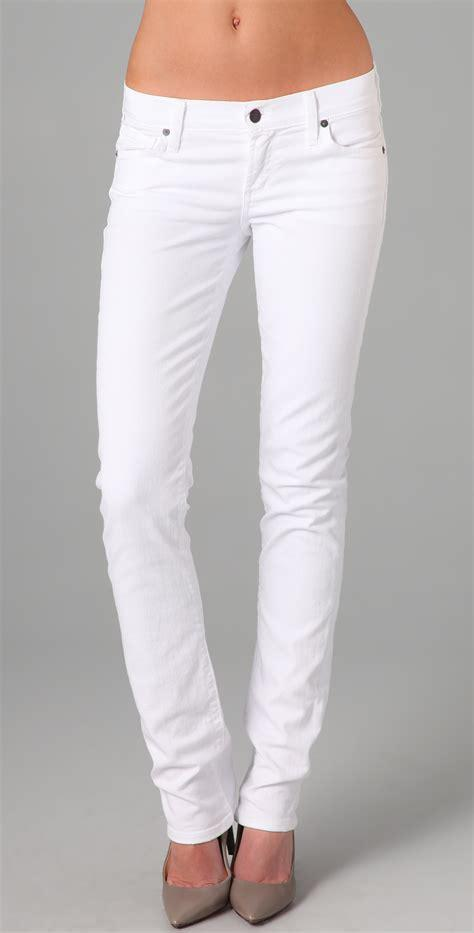pants: (94, 62, 386, 843)
